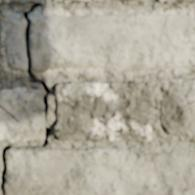brick: (4, 147, 194, 194), (53, 81, 152, 140), (0, 88, 43, 142), (160, 79, 194, 136), (0, 0, 43, 3), (158, 0, 194, 3)
broken_brick: (29, 13, 194, 73), (4, 13, 25, 71)
crack: (0, 2, 52, 192), (61, 0, 83, 2)
